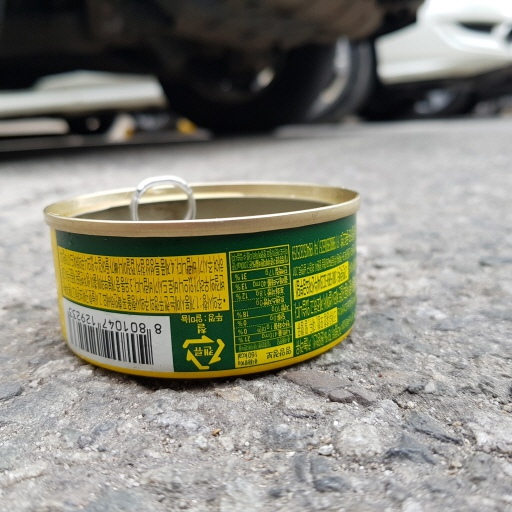Metal_1: (44, 175, 361, 383)
